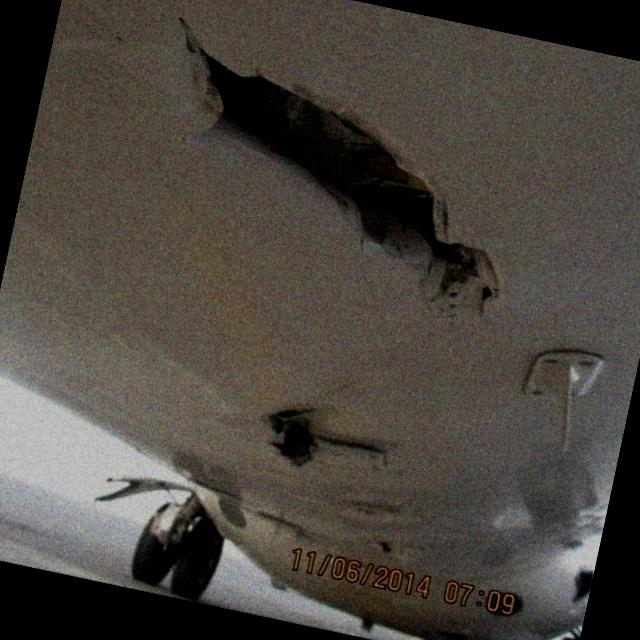crack: (131, 13, 538, 320)
